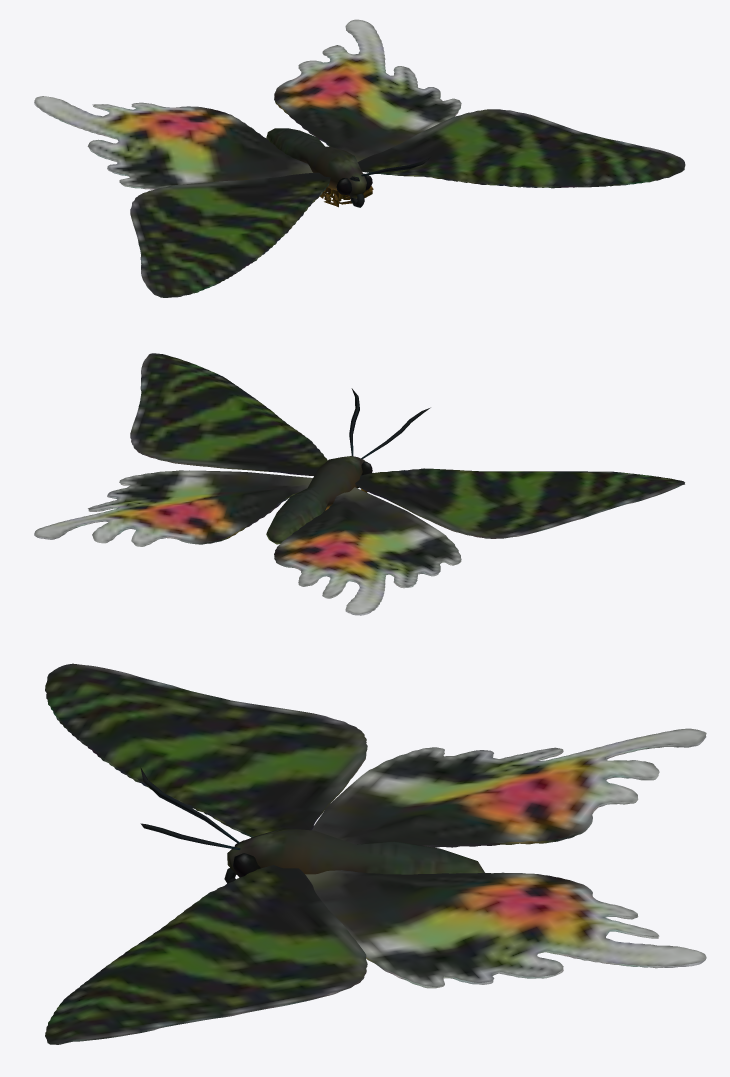
File: madagascan-sunset-moth.glb
3 renders of one model, top to bottom at view 1: azimuth 30°, elevation 25°; view 2: azimuth 150°, elevation 25°; view 3: azimuth 270°, elevation 25°, orthographic. The views are drawn at different scales.
Bounding box in the file's own units: 5.63 × 0.7714 × 4.16.
1 material, 1 textured.
